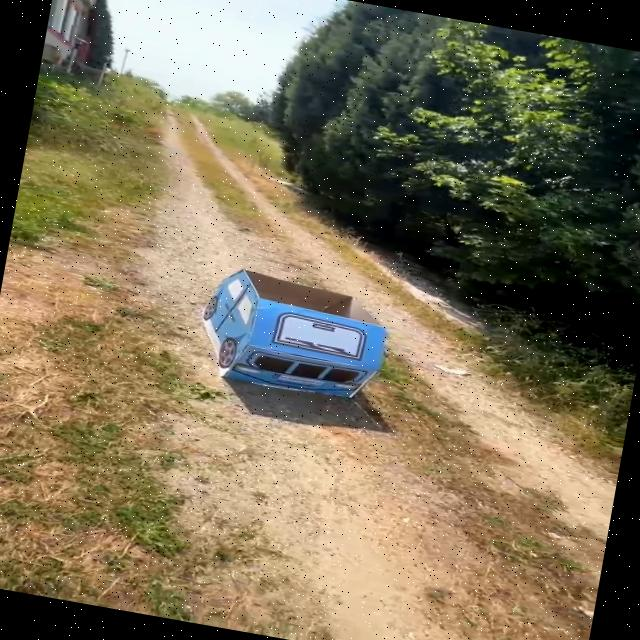blue_car: (157, 231, 436, 437)
